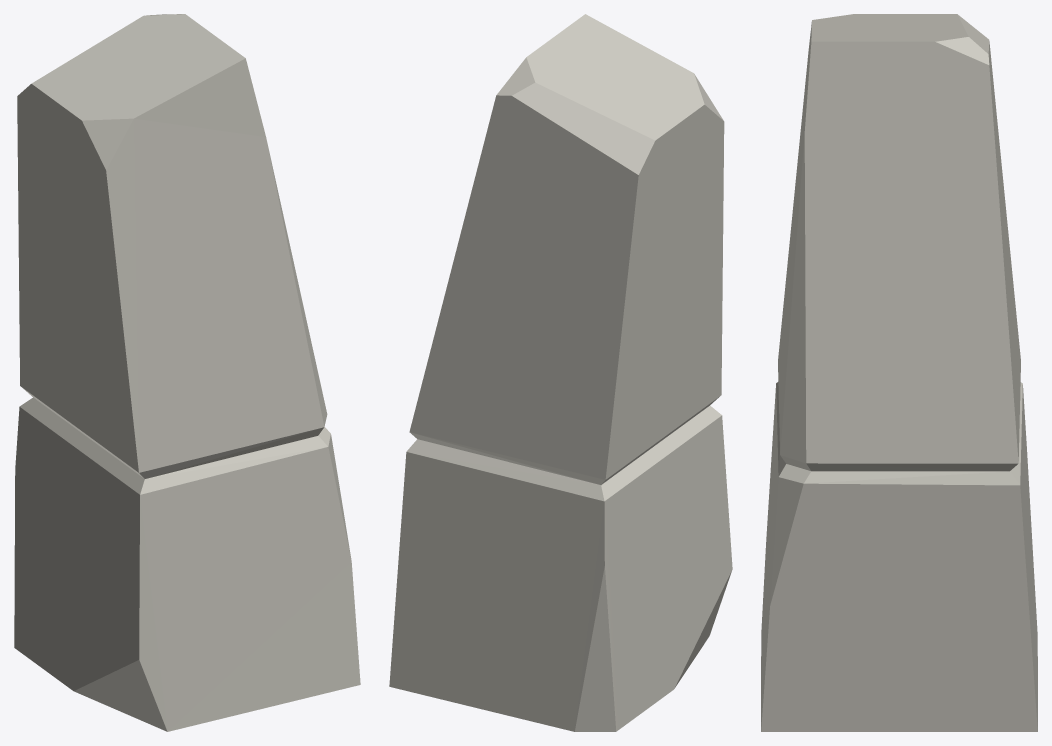
Rendered from Rock_Square_l_11.fbx.
3 renders of one model, left to right at view 1: azimuth 30°, elevation 25°; view 2: azimuth 150°, elevation 25°; view 3: azimuth 270°, elevation 25°, orthographic. The views are drawn at different scales.
Visible parts, largest first — view 1: Rock_Square_l_11; view 2: Rock_Square_l_11; view 3: Rock_Square_l_11.
Part boxes in pixels (x1=…): Rock_Square_l_11: x1=14, y1=14, x2=360, y2=731; Rock_Square_l_11: x1=389, y1=14, x2=732, y2=731; Rock_Square_l_11: x1=761, y1=14, x2=1037, y2=731.
Size of the model in its own units: 130 by 336 by 131.
